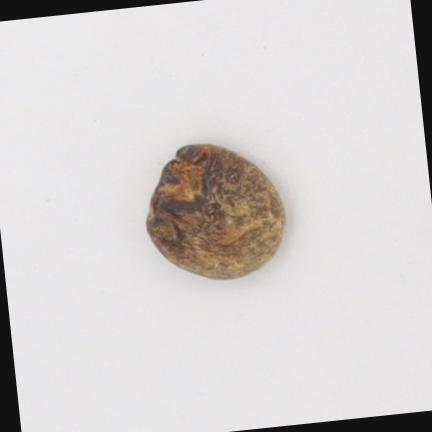partial-black: (147, 145, 284, 278)
